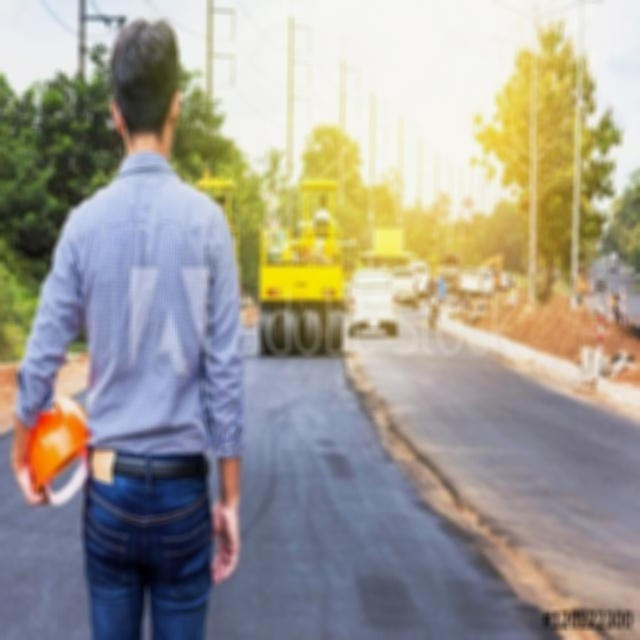Con_Casco: (105, 14, 183, 150)
Sin_Chaleco: (61, 174, 242, 475)
